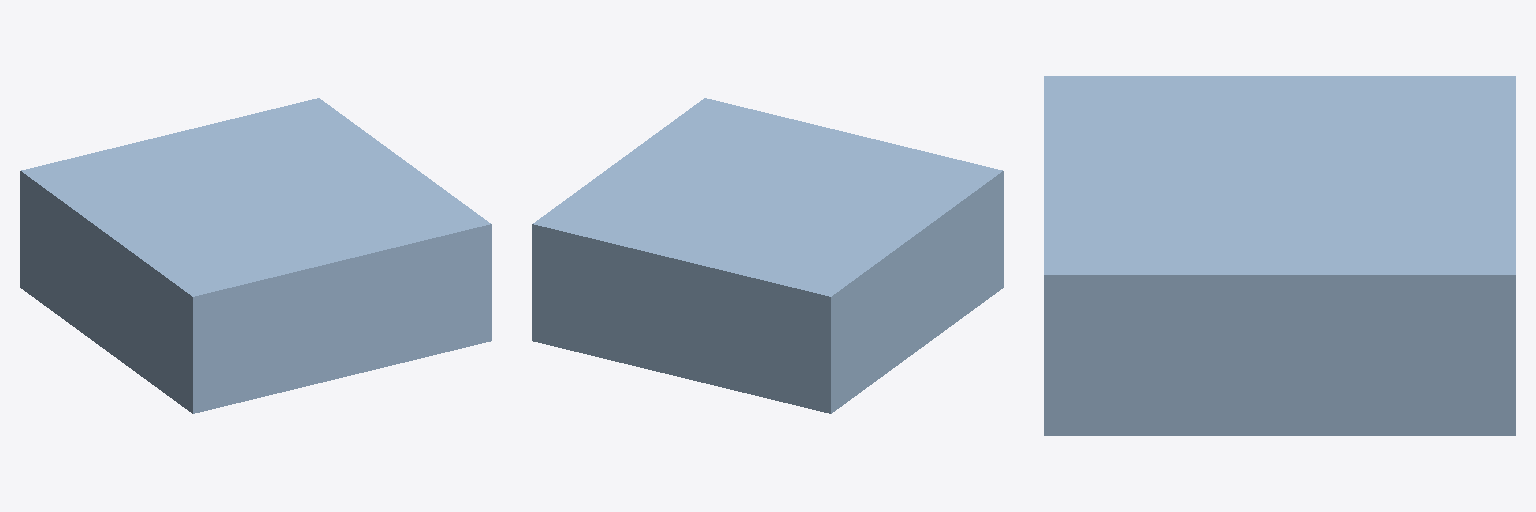
URDF robot description (object):
<?xml version="1.0"?>
<robot name="object">
  <link name="object">
    <visual>
      <origin xyz="0 0 0"/>
      <geometry>
        <box size="0.8 0.8  0.3"/>
      </geometry>
      <material name="mat">
        <color rgba="0.7 0.8 0.9 1"/>
      </material>
    </visual>
	
    <collision>
      <origin xyz="0 0 0"/>
      <geometry>
        <box size="0.8 0.8  0.3"/>
      </geometry>
    </collision>
  </link>
</robot>

--- Facts derived from the render (not from the file) ---
The picture shows the robot from 3 angles, left to right: view 1: azimuth 30°, elevation 25°; view 2: azimuth 150°, elevation 25°; view 3: azimuth 270°, elevation 25°; orthographic projection.
Model object with 1 links and 0 joints (none), rooted at object, posed all joints at 0.
Visible links, largest first — view 1: object; view 2: object; view 3: object.
Link boxes in pixels (x1=…): object: x1=20, y1=98, x2=491, y2=413; object: x1=532, y1=98, x2=1003, y2=413; object: x1=1044, y1=76, x2=1515, y2=435.
Size in the robot's own frame: 0.8 by 0.8 by 0.3 metres.
Geometry: primitives only (box / cylinder / sphere), no mesh files.